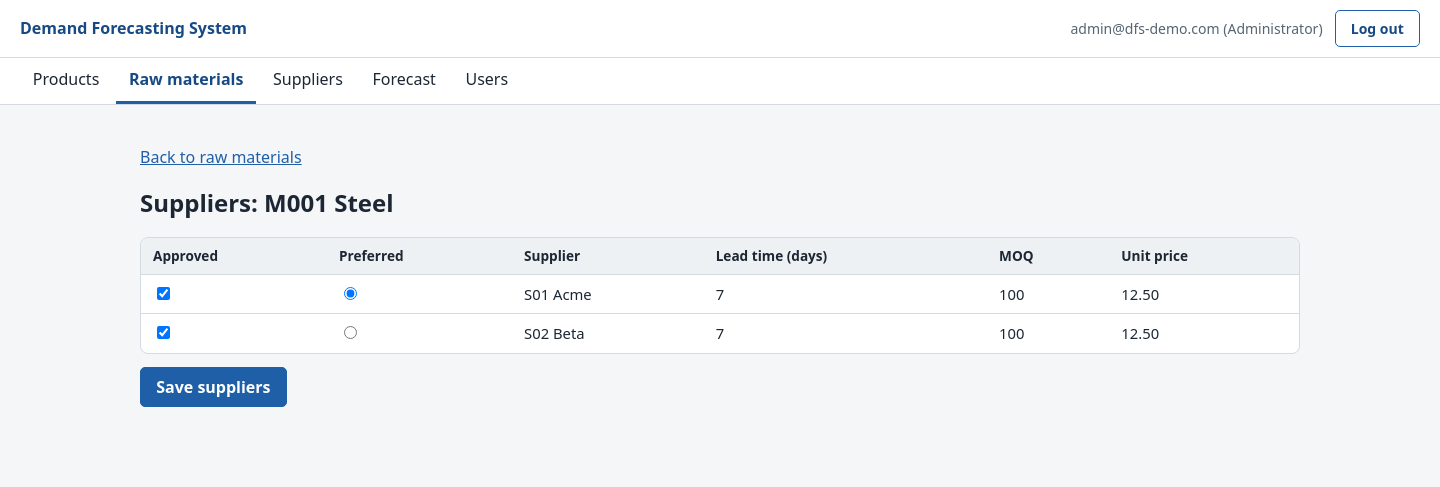
suppliers › moves preferred when the preferred supplier is removed
This screenshot has width=1440, height=487.
Click the checkbox named "Approve S01". click: click(164, 294)
box: [157,287,170,300]
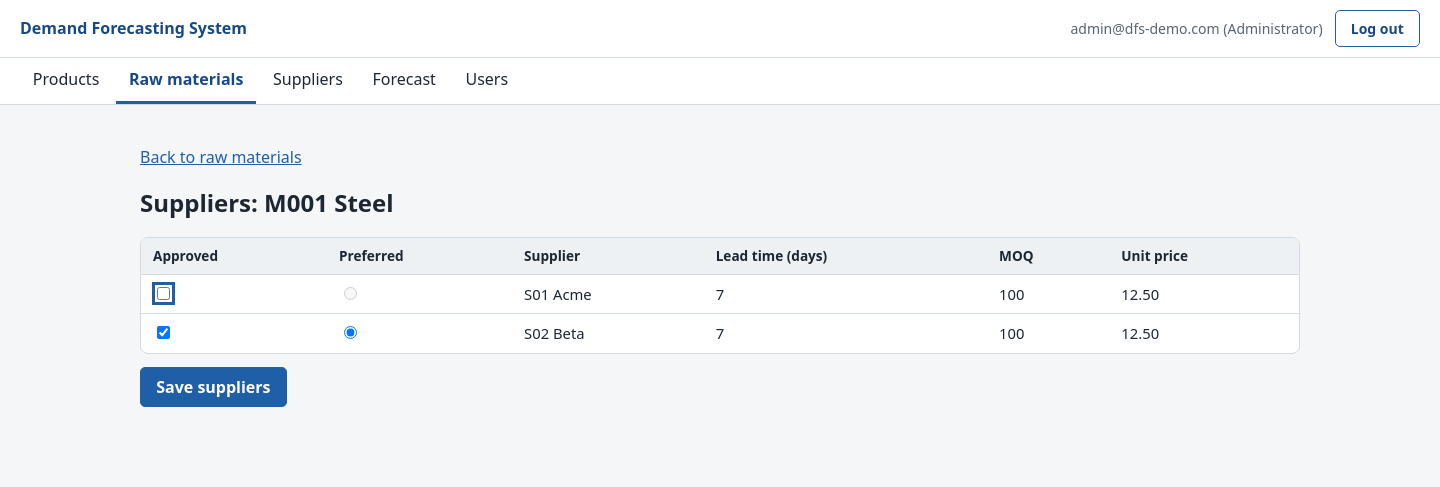
Result: the radio button named "Prefer S02" is checked at [344,326,357,339]
Click the button "Save suppliers". click: click(213, 387)
box: [140,367,287,408]
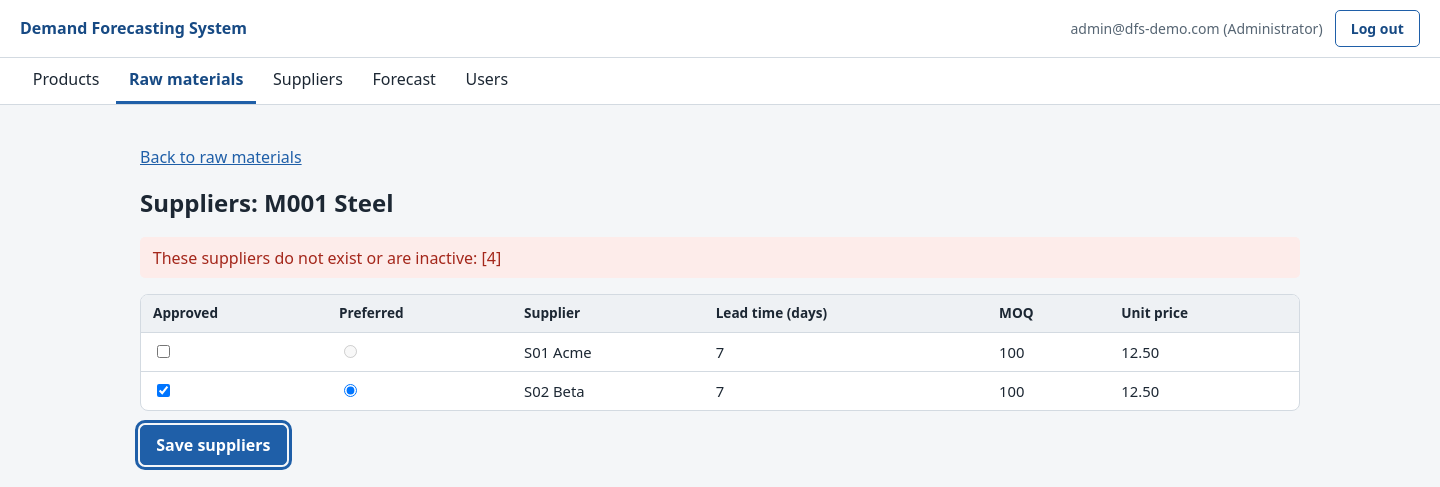
Result: the message shows "inactive" at [153,246,501,268]
